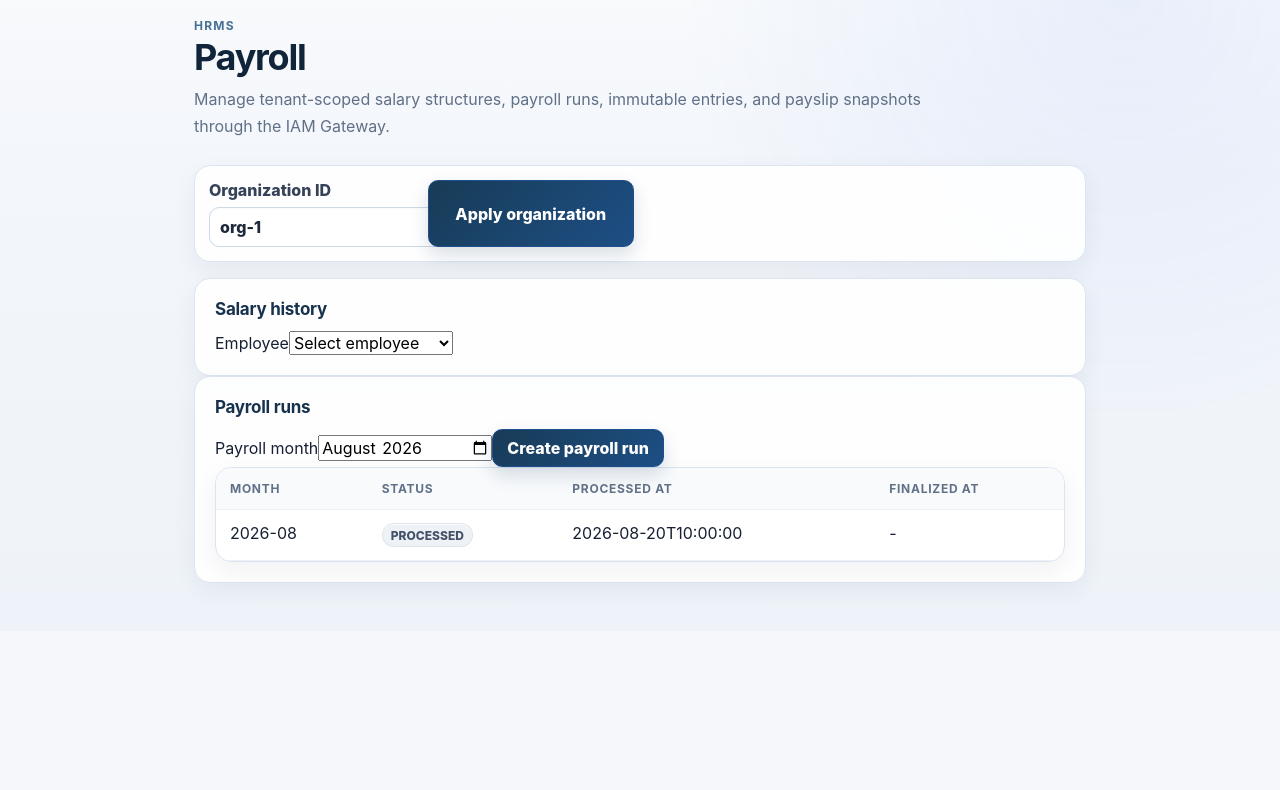
PayrollPage › renders a legacy non-statutory payslip snapshot without recomputing
What coordinates should you click on to do the following:
click the text "2026-08"
I would click on:
 (640, 535)
Its box is [216,510,1064,561].
(page scrolled)
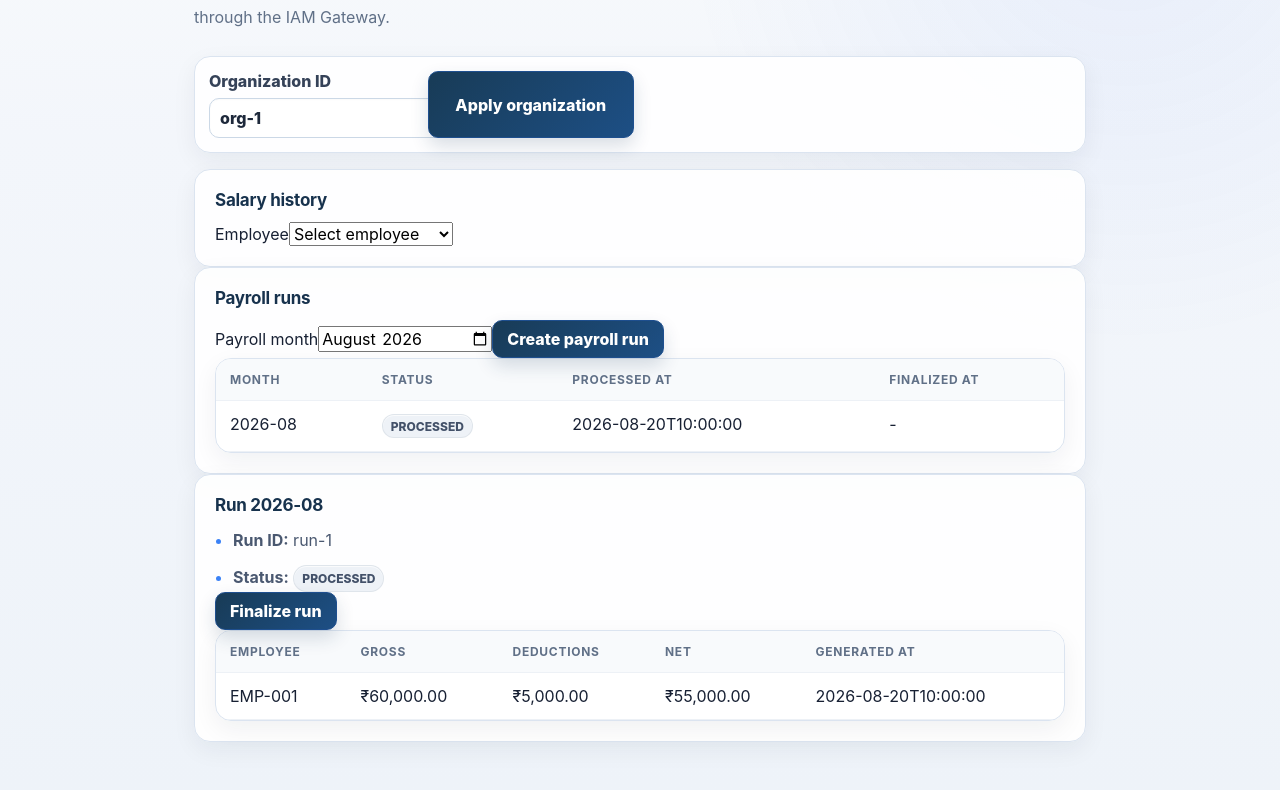
What coordinates should you click on to do the following:
click the text "EMP-001 ₹60,000.00 ₹5,000.00 ₹55,000.00 2026-08-20T10:00:00"
I would click on:
 (640, 696)
Its box is [216,673,1064,720].
(page scrolled)
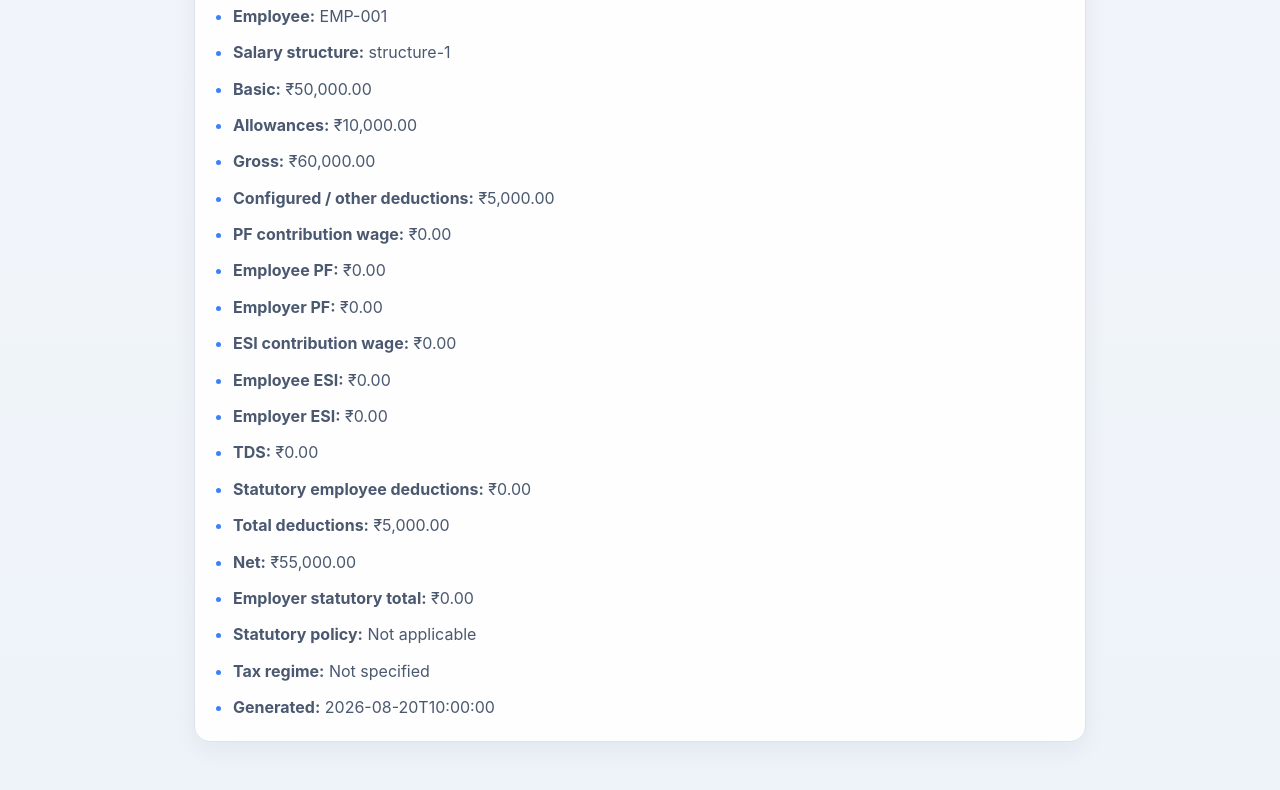
Result: the list item "Configured / other deductions:" shows "5,000" at [478,188,555,208]
Result: the list item "Employee PF:" shows "0.00" at [343,260,386,280]
Result: the list item "Employee ESI:" shows "0.00" at [348,370,391,390]
